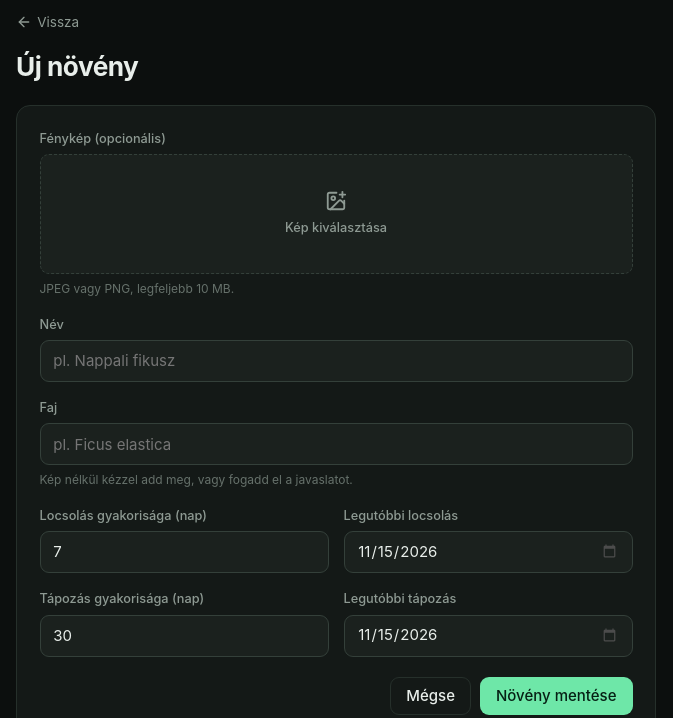
Test case: AddPlantPage › AC5: shows the server error for a zero interval and stays on the form
Type "Fikusz" into the field labelled "Név" at (336, 361), box [40,340,632,382]
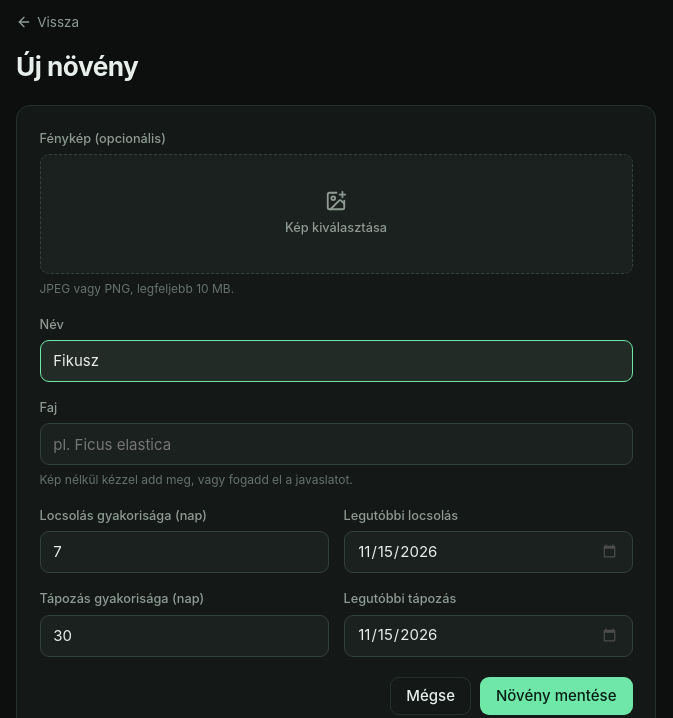
Replace the text in the number field labelled "Locsolás gyakorisága (nap)" with "0" at (184, 552), box [40,531,328,573]
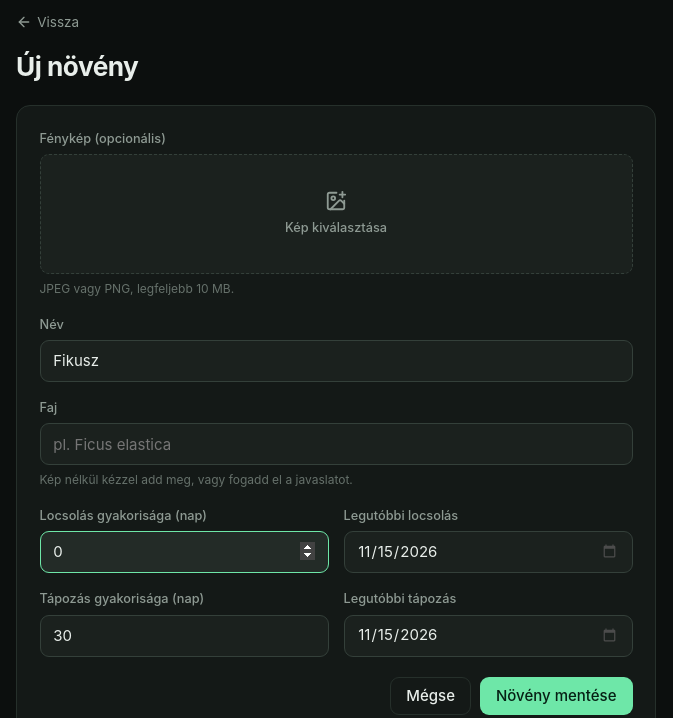
Click the button "Növény mentése" at (556, 696), box [480,677,632,715]
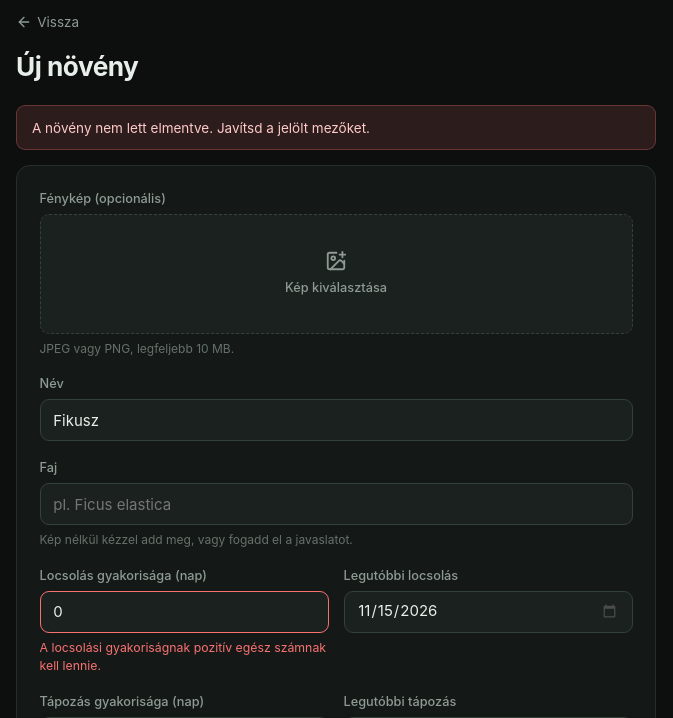
Expected: the text "A locsolási gyakoriságnak pozitív egész számnak kell lennie." is shown, [40,639,328,676]
Expected: the text "A növény nem lett elmentve. Javítsd a jelölt mezőket." is shown, [16,105,656,150]
